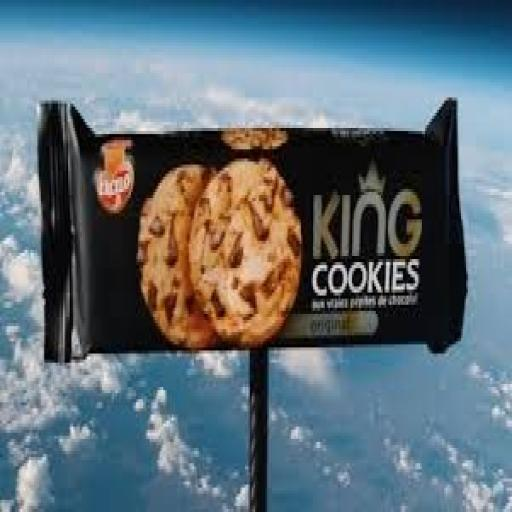king_cooking: (24, 66, 502, 422)
